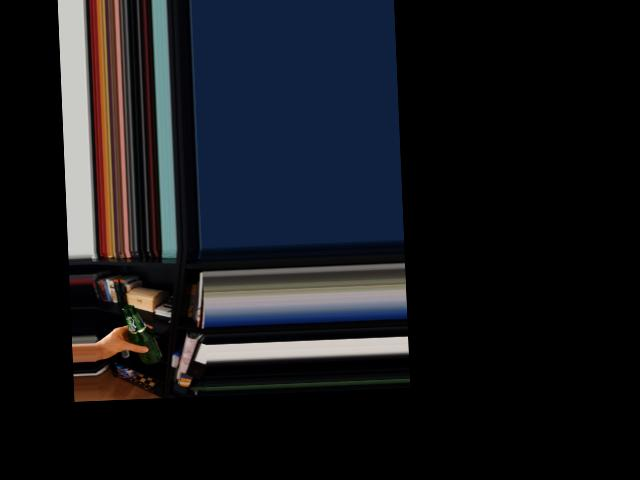beer: (122, 304, 163, 365)
